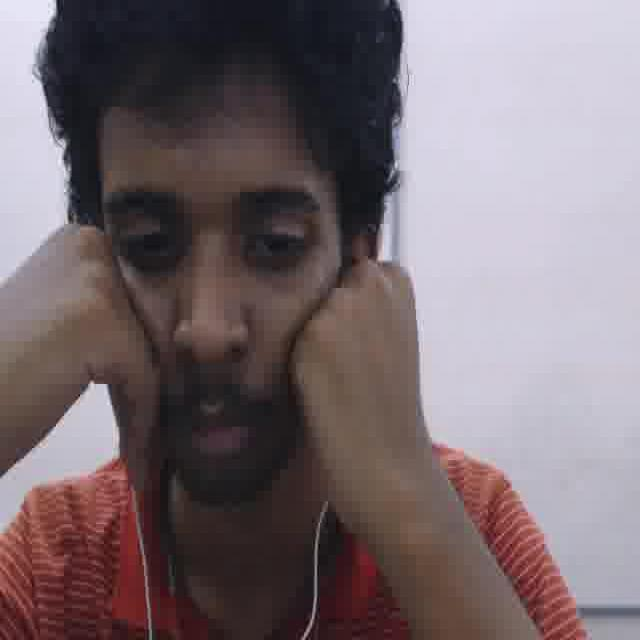Boredom: (83, 69, 350, 515)
